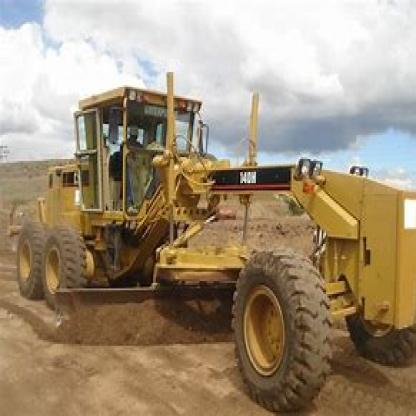bull_dozer/loader/grader: (13, 83, 414, 403)
